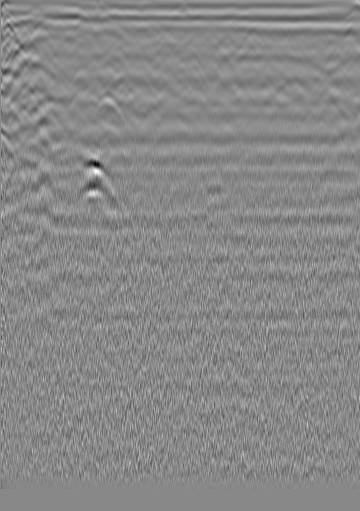가스: (75, 155, 111, 195)
상수: (299, 21, 319, 41)
오수: (32, 28, 52, 48)
우수: (178, 20, 198, 40)
